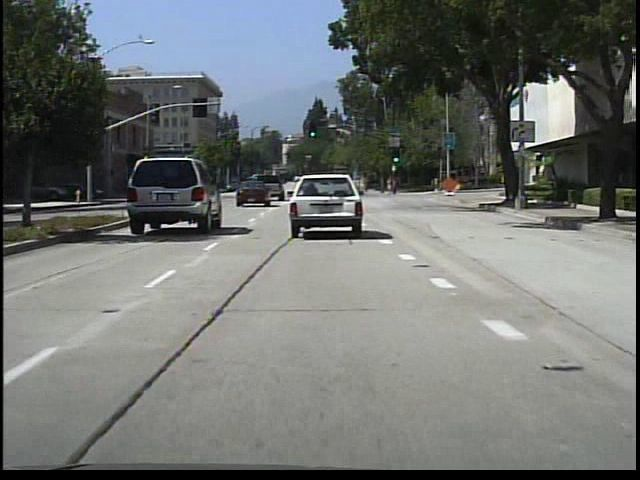person: (382, 172, 396, 198)
